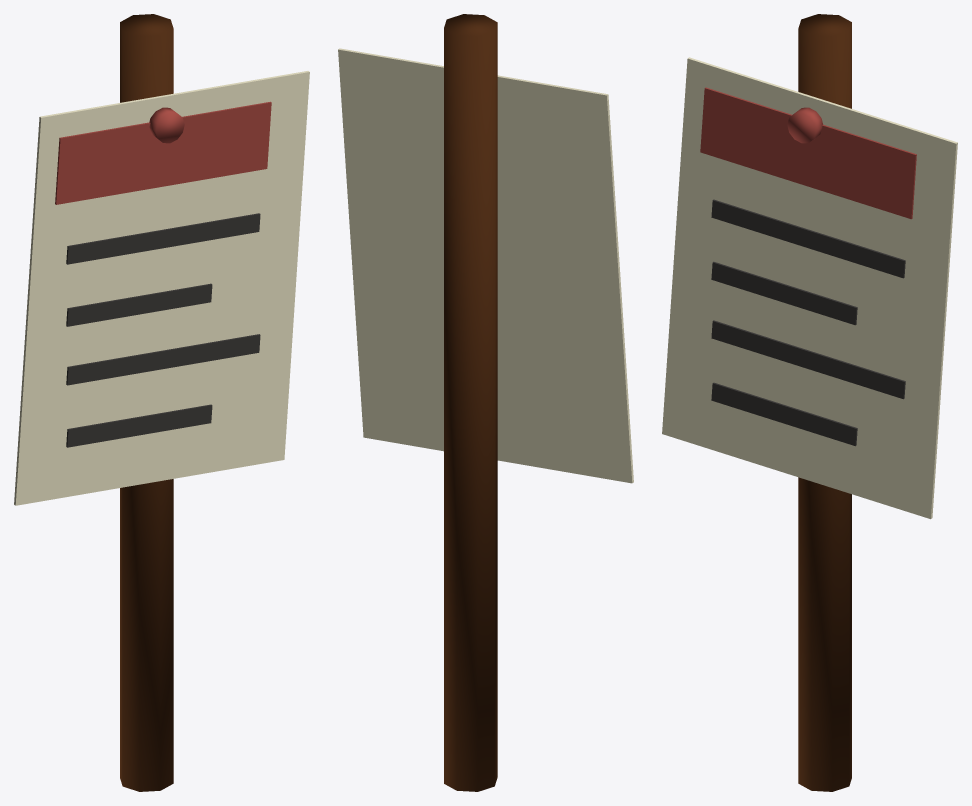
File: flyer.glb
The picture shows the model from 3 angles, left to right: view 1: azimuth 30°, elevation 25°; view 2: azimuth 150°, elevation 25°; view 3: azimuth 330°, elevation 25°; orthographic projection.
Visible parts, largest first — view 1: paper, post, head, line0, line2, line1, line3, pin; view 2: paper, post; view 3: paper, post, head, line0, line2, line3, line1, pin.
Part boxes in pixels (x1,y1,x2,y2): paper: (14, 71, 309, 505); post: (120, 14, 173, 791); head: (55, 101, 271, 204); line0: (66, 213, 260, 264); line2: (66, 334, 260, 385); line1: (66, 283, 212, 326); line3: (66, 404, 212, 447); pin: (149, 107, 184, 143); paper: (338, 48, 633, 483); post: (444, 14, 497, 791); paper: (662, 57, 957, 519); post: (798, 14, 851, 791); head: (700, 87, 916, 219); line0: (711, 199, 905, 278); line2: (711, 320, 905, 399); line3: (711, 382, 857, 446); line1: (711, 261, 857, 325); pin: (787, 107, 822, 143).
Size of the model in its own units: 0.6117 by 1.5 by 0.135.
